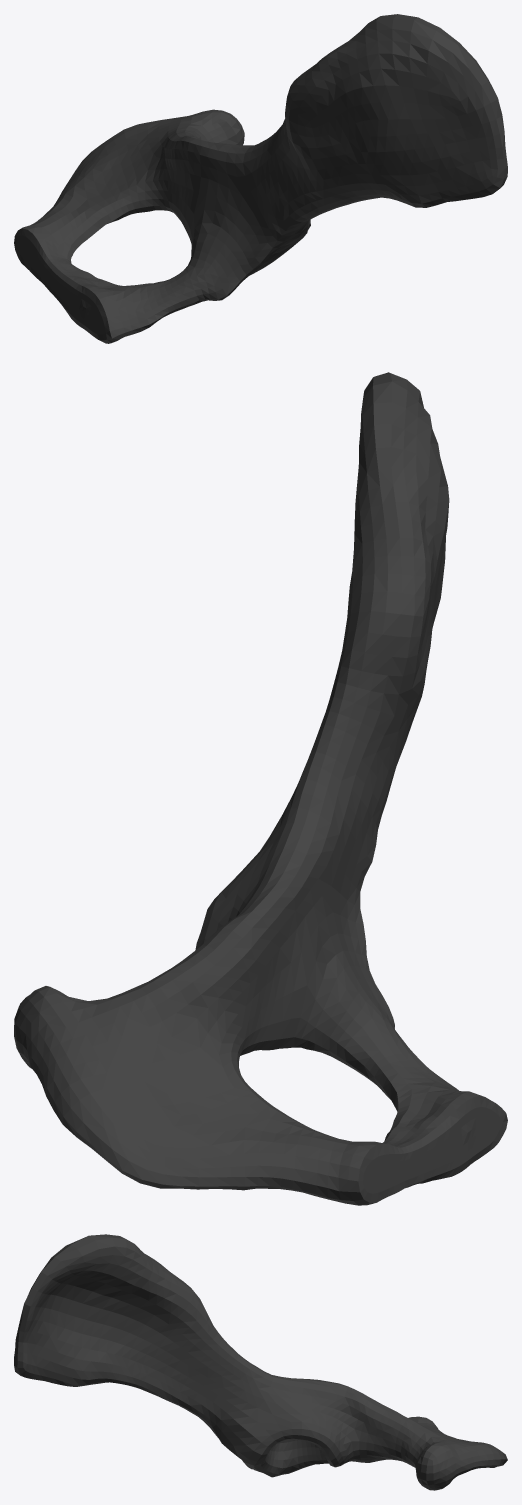
The model's file is Pelvis.glb.
The picture shows the model from 3 angles, top to bottom: view 1: azimuth 30°, elevation 25°; view 2: azimuth 150°, elevation 25°; view 3: azimuth 270°, elevation 25°; orthographic projection. The views are drawn at different scales.
Parts seen in each view (by area): view 1: Pelvis; view 2: Pelvis; view 3: Pelvis.
Boxes of the visible parts, x1,y1,x2,y2 form: Pelvis: (14,14,507,343); Pelvis: (14,372,507,1205); Pelvis: (14,1234,507,1490).
Bounding box in the file's own units: 0.4486 × 0.6458 × 0.9561.
1 material, 1 textured.
